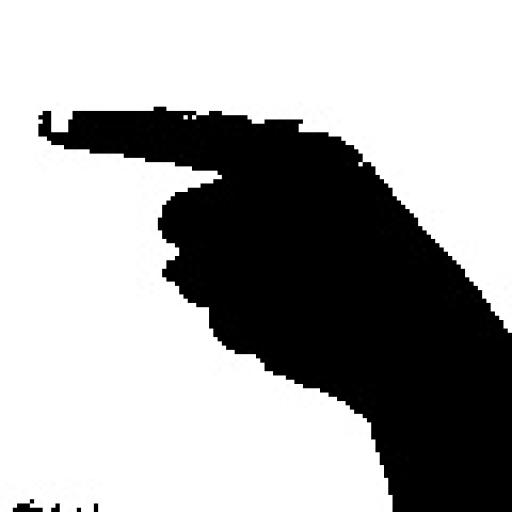index_left: (38, 104, 512, 335)
